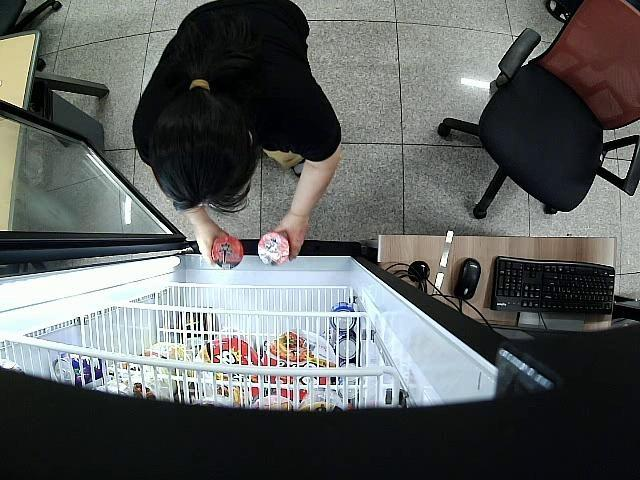02_shinRamen_S: (212, 235, 245, 270), (258, 234, 292, 266)
